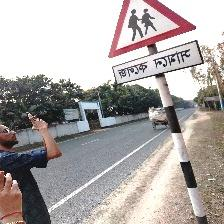College-in-front: (92, 0, 201, 102)
